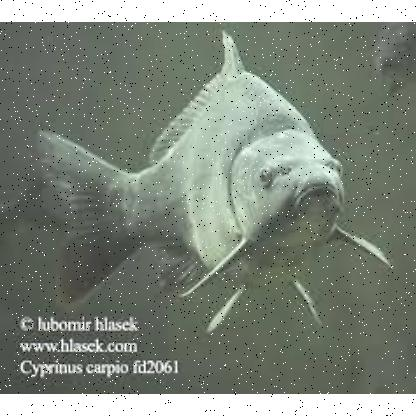ikan-mas: (50, 34, 352, 318)
